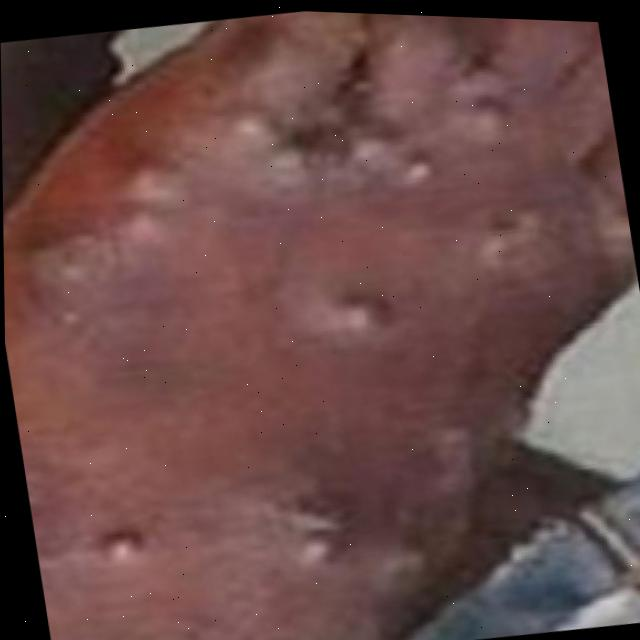Eczema: (9, 59, 589, 628)
